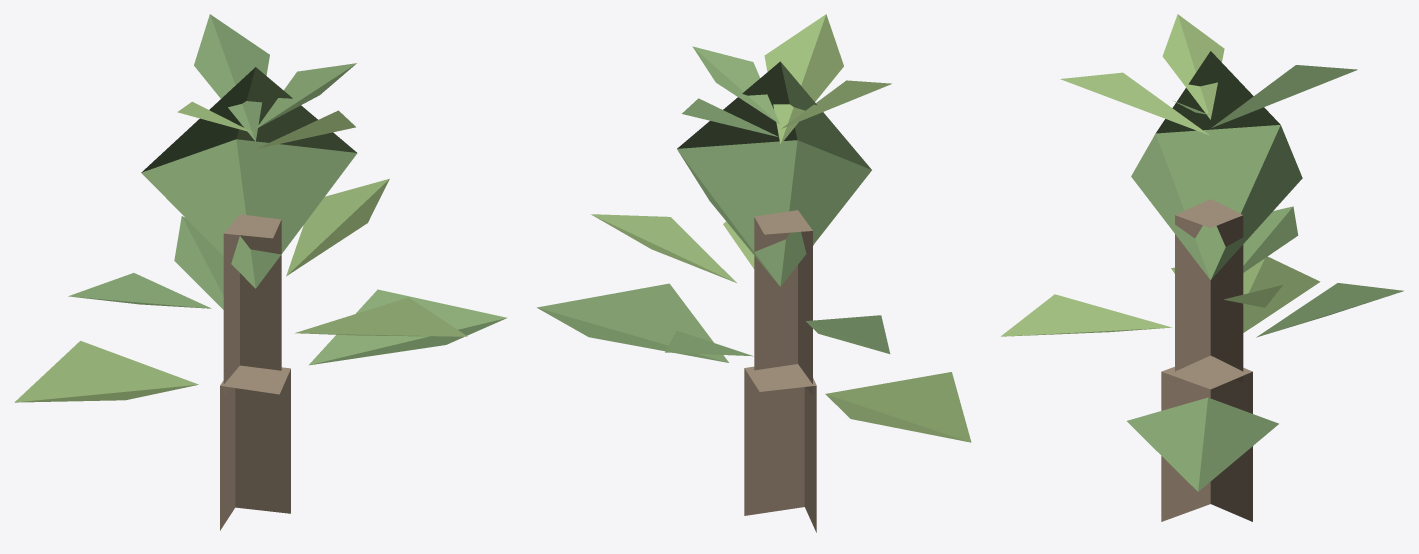
Rendered from hua.zhu@seedling__bloom.glb.
3 renders of one model, left to right at view 1: azimuth 30°, elevation 25°; view 2: azimuth 150°, elevation 25°; view 3: azimuth 270°, elevation 25°, orthographic. The views are drawn at different scales.
Visible parts, largest first — view 1: hua.zhu@seedling__bloom; view 2: hua.zhu@seedling__bloom; view 3: hua.zhu@seedling__bloom.
Part boxes in pixels (x1,y1,x2,y2): hua.zhu@seedling__bloom: (14,14,507,530); hua.zhu@seedling__bloom: (537,14,971,532); hua.zhu@seedling__bloom: (1001,14,1403,521).
Size of the model in its own units: 0.4308 by 0.4072 by 0.3168.
